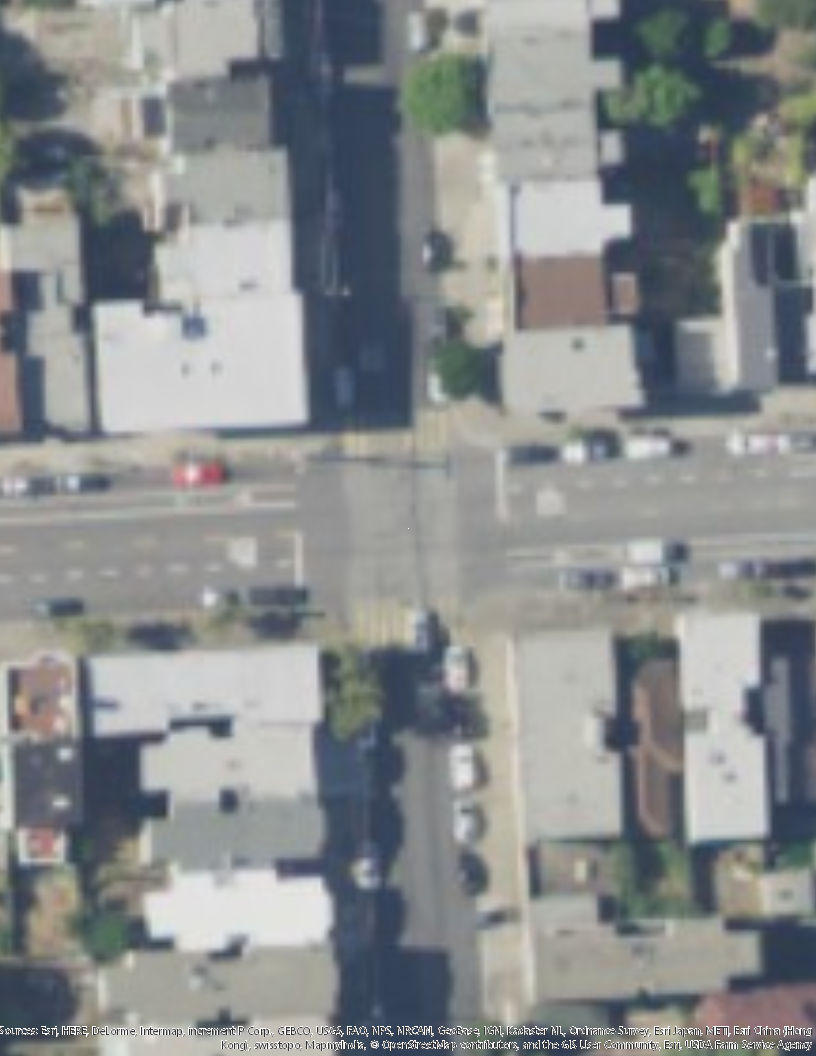zebracross: (352, 599, 463, 644), (342, 417, 447, 456)
